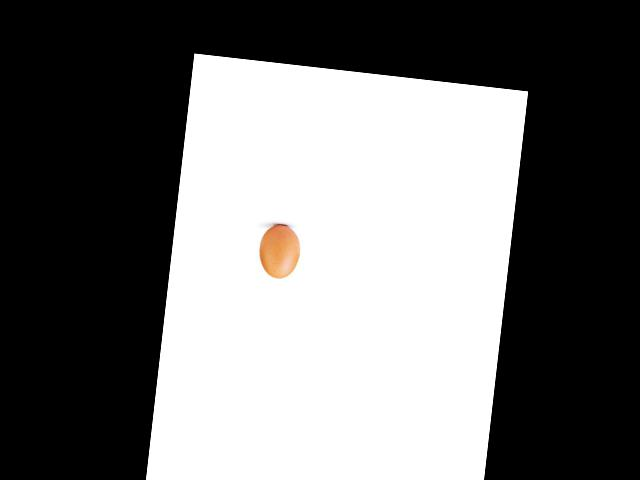egg: (256, 223, 302, 279)
